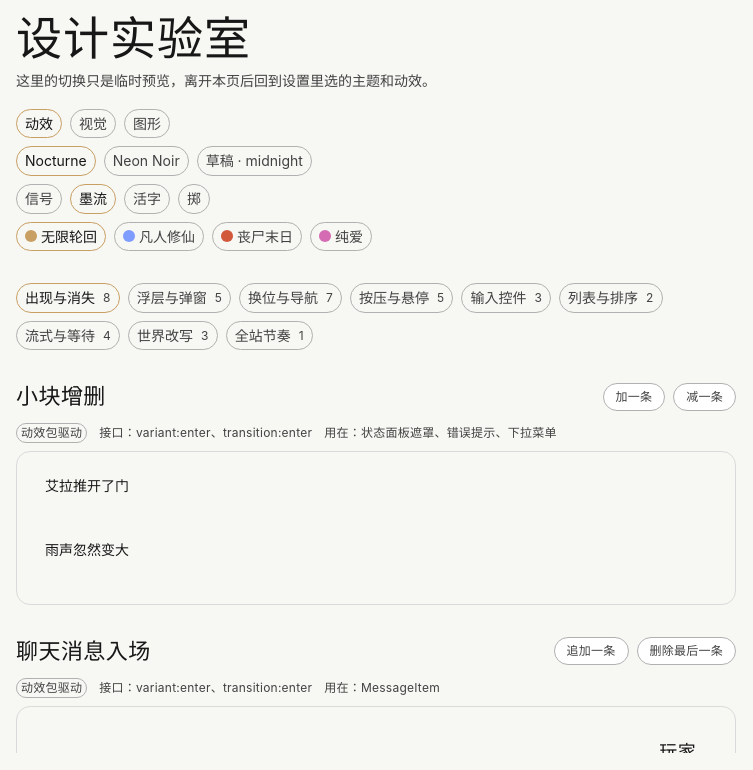
DesignLabPage › 可切到「视觉」分页
This screenshot has width=753, height=770.
What coordinates should you click on to do the following:
click the button "视觉"
I would click on:
 (93, 124)
Its box is top-left (70, 109), bottom-right (116, 138).
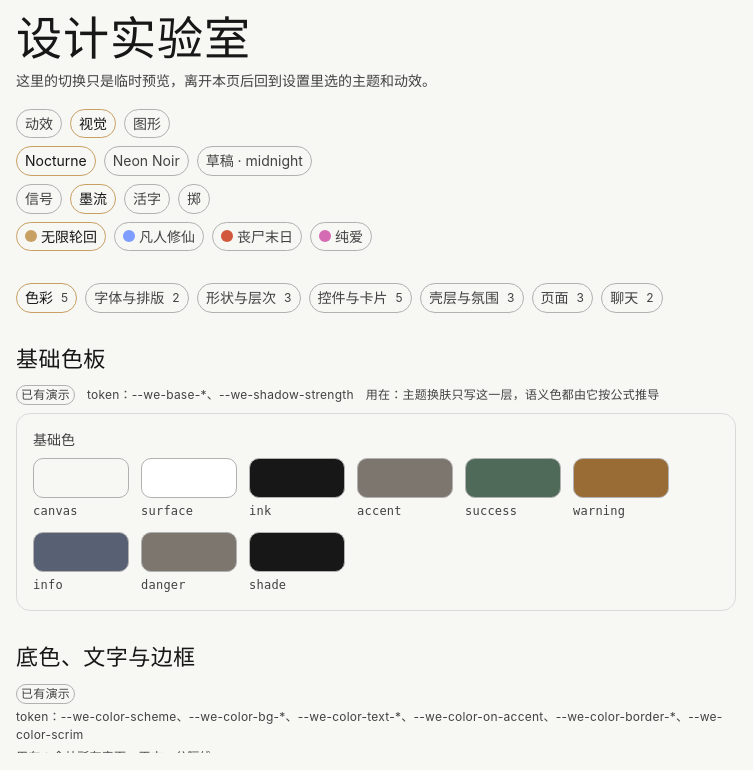
Expected: the heading "基础色板" is shown, top-left (16, 346), bottom-right (106, 372)
What coordinates should you click on to do the following:
click the button "聊天 2"
I would click on:
 (632, 298)
Its box is top-left (601, 283), bottom-right (663, 313).
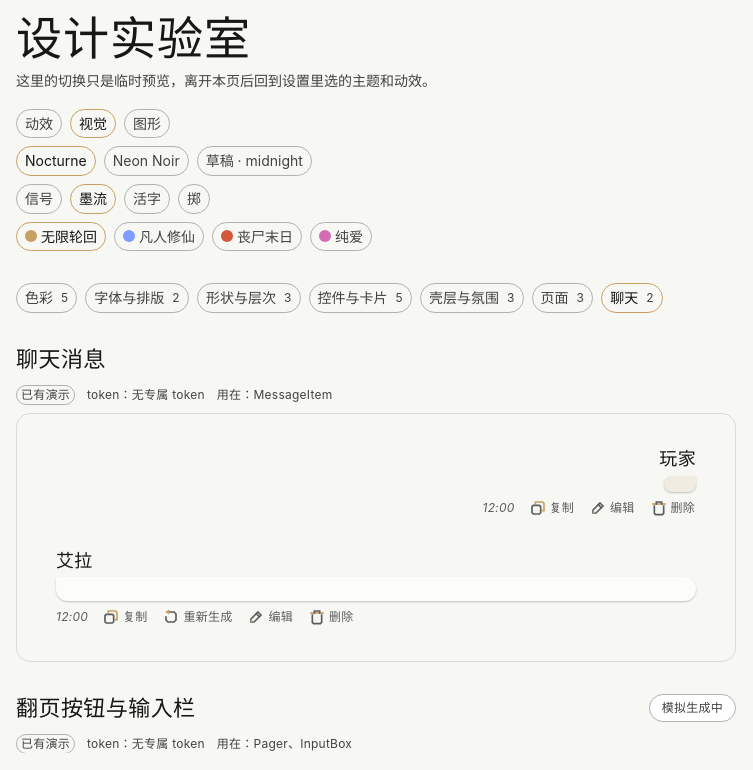
Expected: the button "Neon Noir" is shown, top-left (104, 146), bottom-right (189, 176)
Expected: the heading "聊天消息" is shown, top-left (16, 346), bottom-right (106, 372)
